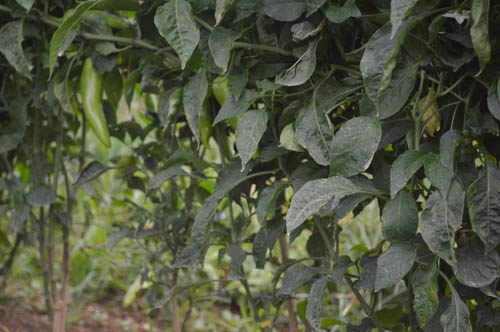ChiliPepper: (214, 75, 257, 164), (81, 60, 118, 149)
